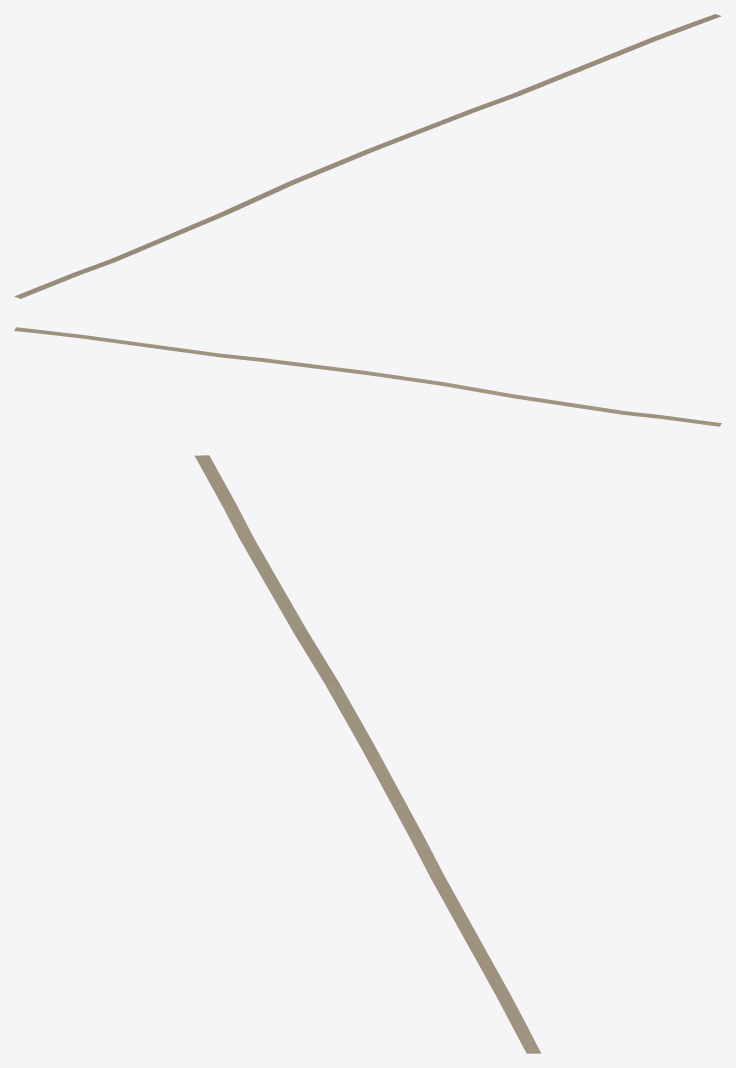
File: farm_8_10_track.glb
The picture shows the model from 3 angles, top to bottom: view 1: azimuth 30°, elevation 25°; view 2: azimuth 150°, elevation 25°; view 3: azimuth 270°, elevation 25°; orthographic projection. The views are drawn at different scales.
Visible parts, largest first — view 1: geometry_0; view 2: geometry_0; view 3: geometry_0.
Part boxes in pixels (x1=…): geometry_0: x1=14, y1=14, x2=721, y2=298; geometry_0: x1=14, y1=327, x2=721, y2=426; geometry_0: x1=195, y1=455, x2=541, y2=1053.
Bounding box in the file's own units: 312 × 3.48 × 75.18.
